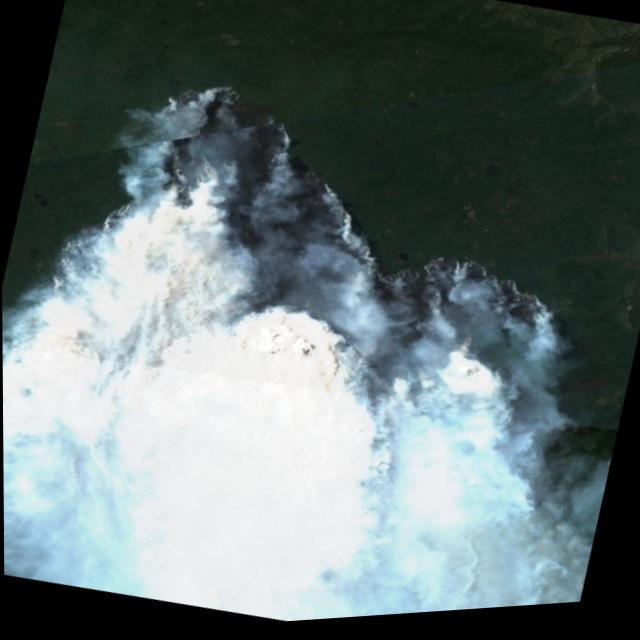fire: (21, 37, 600, 506)
